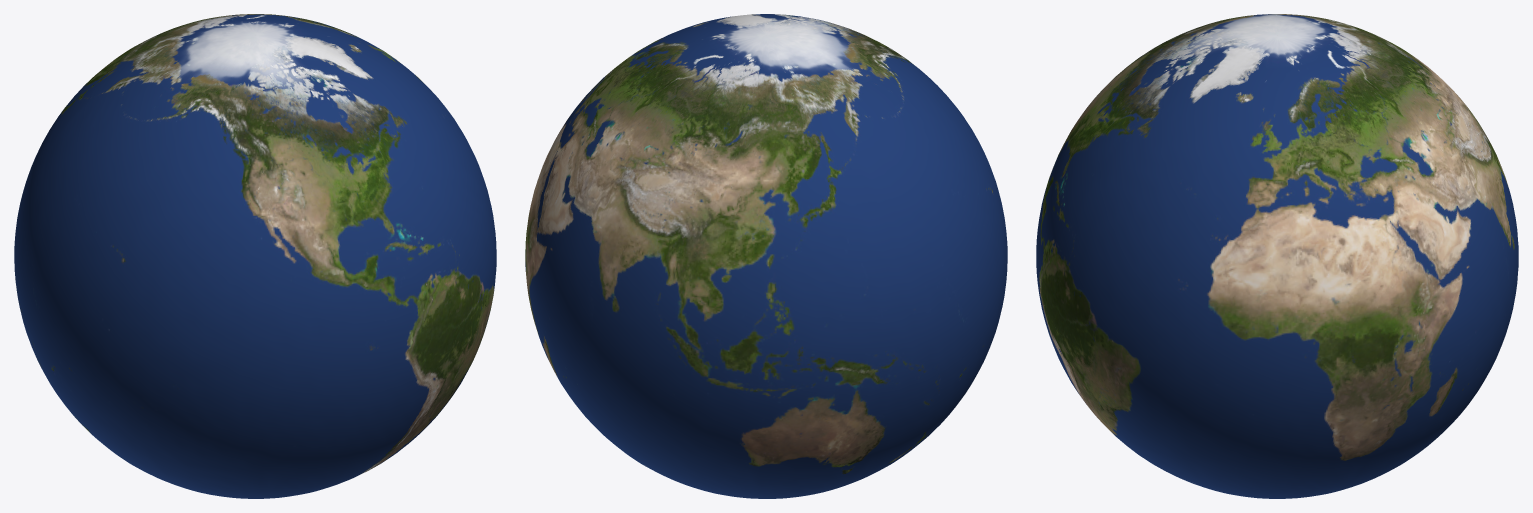
File: earthImpo.gltf
The picture shows the model from 3 angles, left to right: view 1: azimuth 30°, elevation 25°; view 2: azimuth 150°, elevation 25°; view 3: azimuth 270°, elevation 25°; orthographic projection.
Parts seen in each view (by area): view 1: Object_2; view 2: Object_2; view 3: Object_2.
Boxes of the visible parts, x1,y1,x2,y2 form: Object_2: [14, 14, 496, 498]; Object_2: [525, 14, 1007, 498]; Object_2: [1036, 14, 1518, 498].
Bounding box in the file's own units: 1.97 × 2 × 1.97.
1 material, 1 textured.
